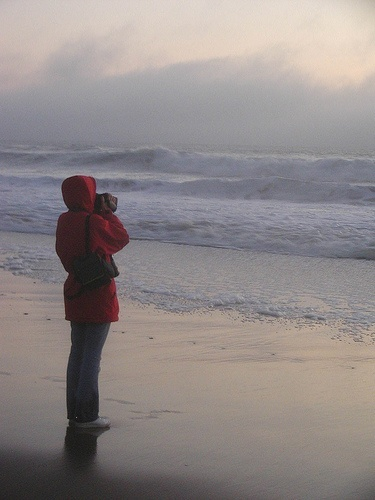head: (61, 174, 96, 214)
person: (53, 175, 128, 428)
